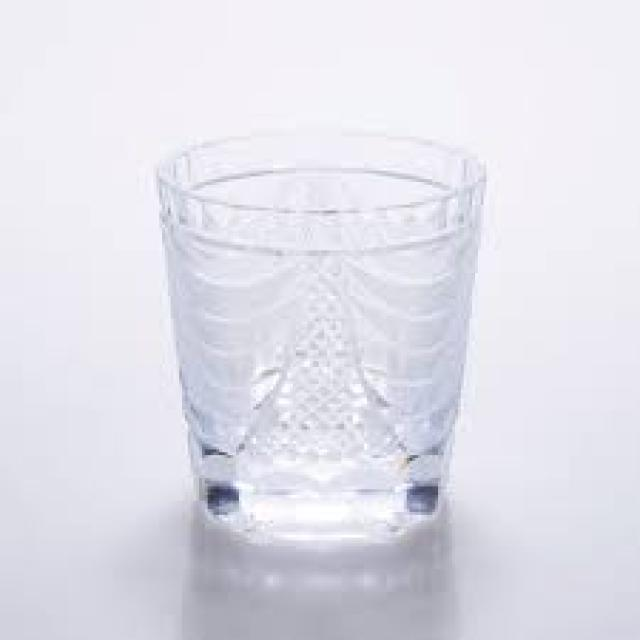glass: (154, 131, 481, 540)
